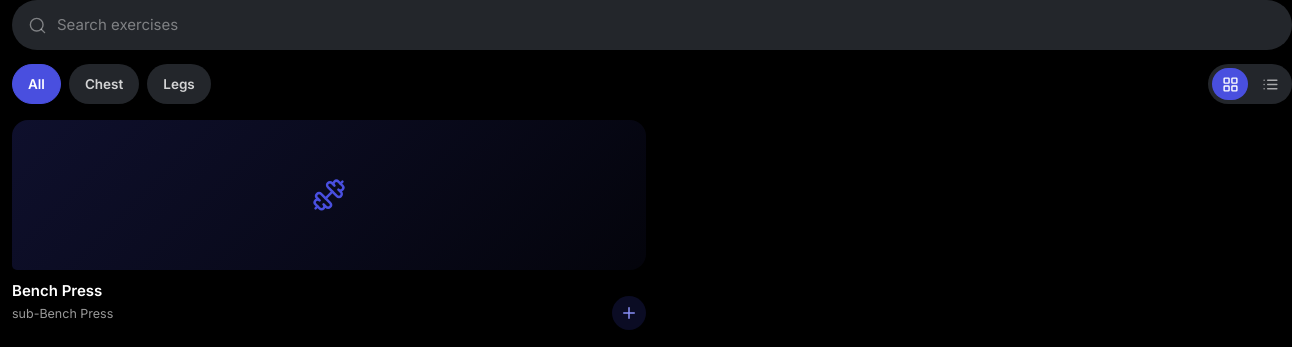
Test: ExercisePickerList › shows the no-match message when a search filters everything out
Type "zzz" into the search field with placeholder "Search exercises" at (666, 25), box [57,14,1276,36]
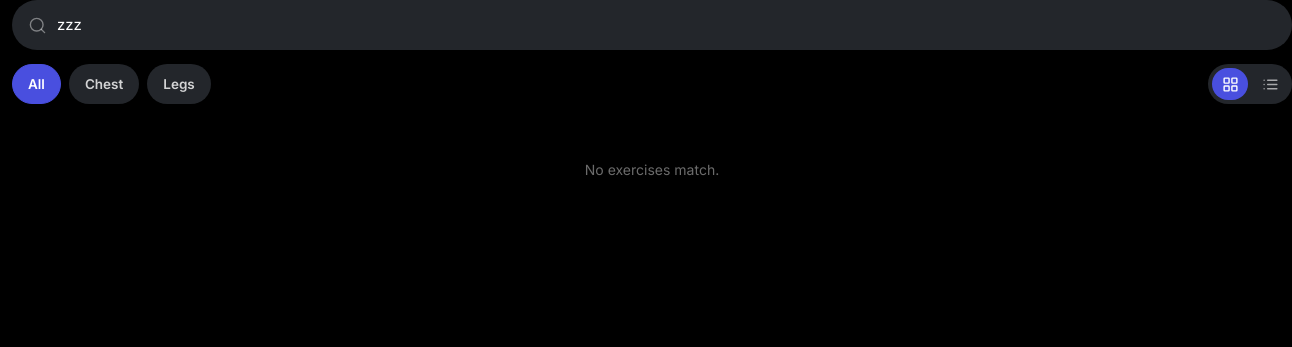
Expected: the text "No exercises match." is shown, [585,161,719,178]
